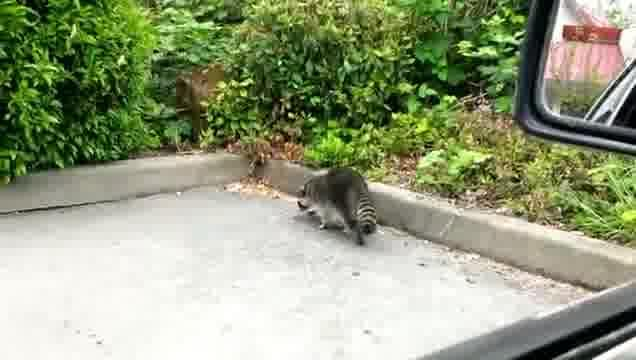raccoon: (290, 165, 384, 246)
